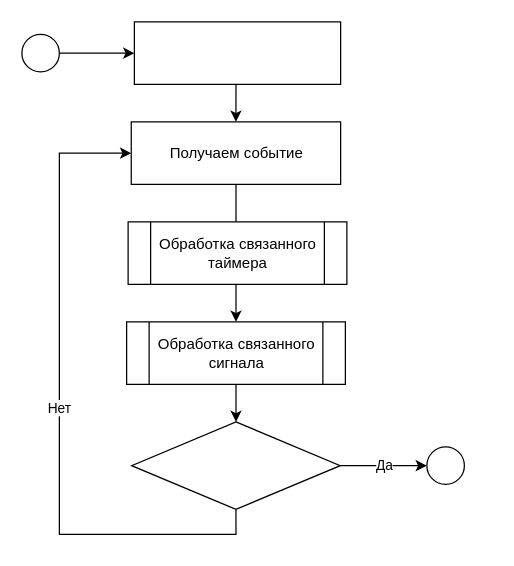
This 514x566 diagram has some shape labels left out. The shapes that lost their labels are listed below. From the top down, each one's box as (x1, y1, x2, y2) in pixels, then its label:
(133, 21, 341, 84): Вычисляется текущее время (TimeNow)
(130, 421, 340, 509): События закончились?
